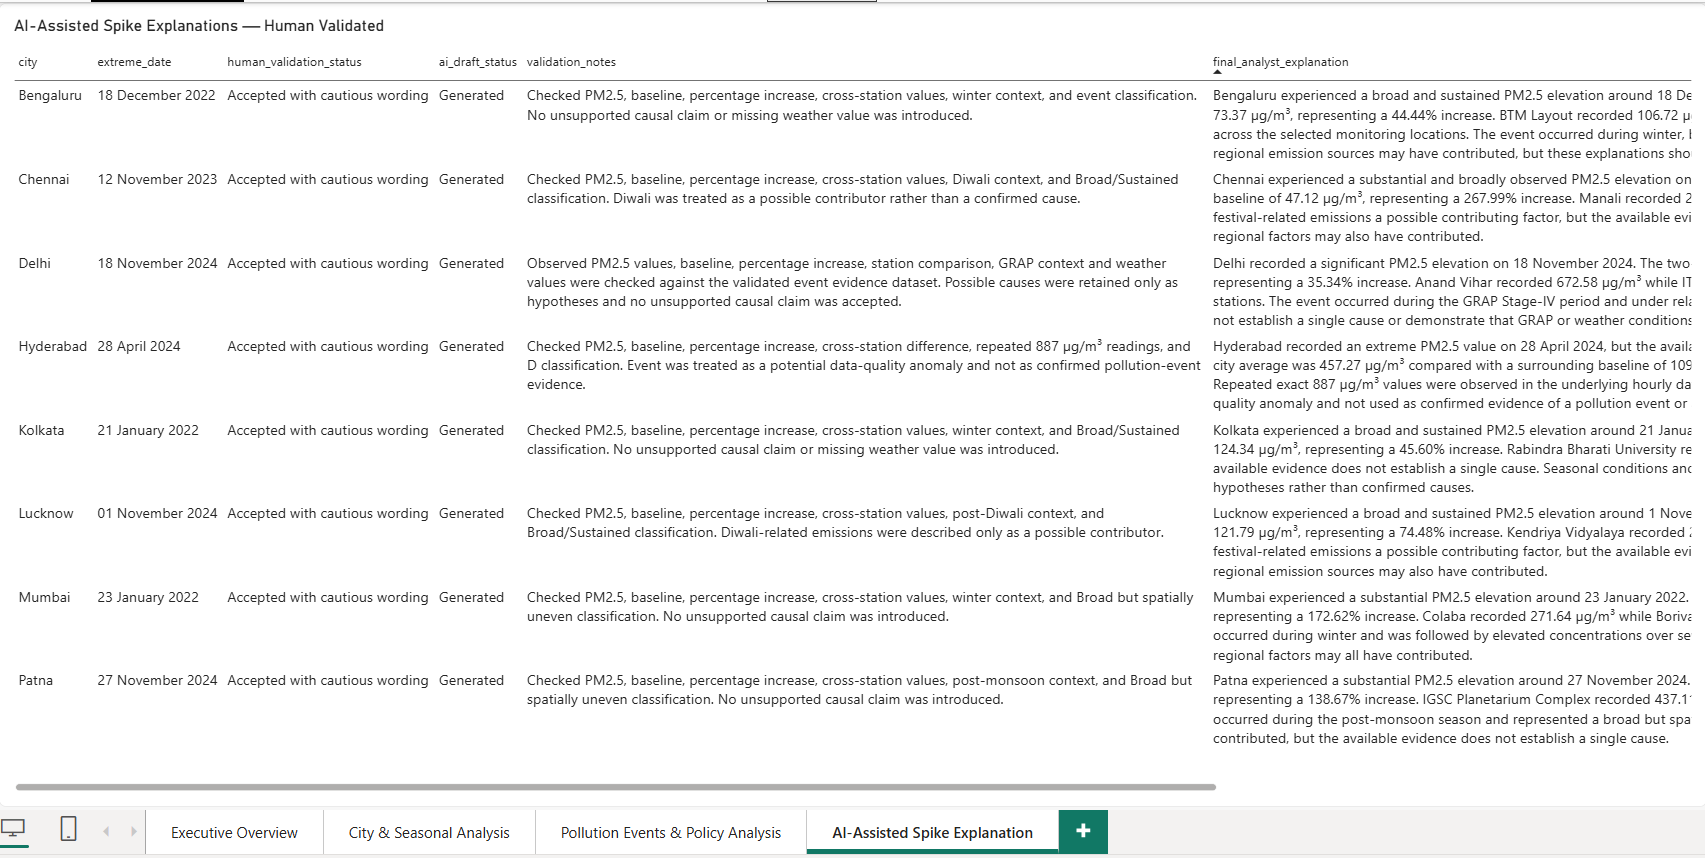

What the dashboard file says about the page in this screenshot:
{"tool":"powerbi","page":{"name":"AI-Assisted Spike Explanation","canvas":[1920,1080],"ordinal":3},"visuals":[{"type":"tableEx","title":"AI-Assisted Spike Explanations — Human Validated","fields":{"Values":["ai_human_validation_2022_2024.city","ai_human_validation_2022_2024.extreme_date","ai_human_validation_2022_2024.human_validation_status","ai_human_validation_2022_2024.ai_draft_status","ai_human_validation_2022_2024.validation_notes","ai_human_validation_2022_2024.final_analyst_explanation"]},"box":[0,0,1920.4,903.6],"z":0}]}

Visuals, with their boxes on the page's 1920x1080 design canvas (x1, y1, x2, y2). These are canvas units, not pixel positions in the 1705x858 screenshot, which may show the page scaled, cropped or inside an application window:
"AI-Assisted Spike Explanations — Human Validated" tableEx: select_region(0, 0, 1920, 904)
